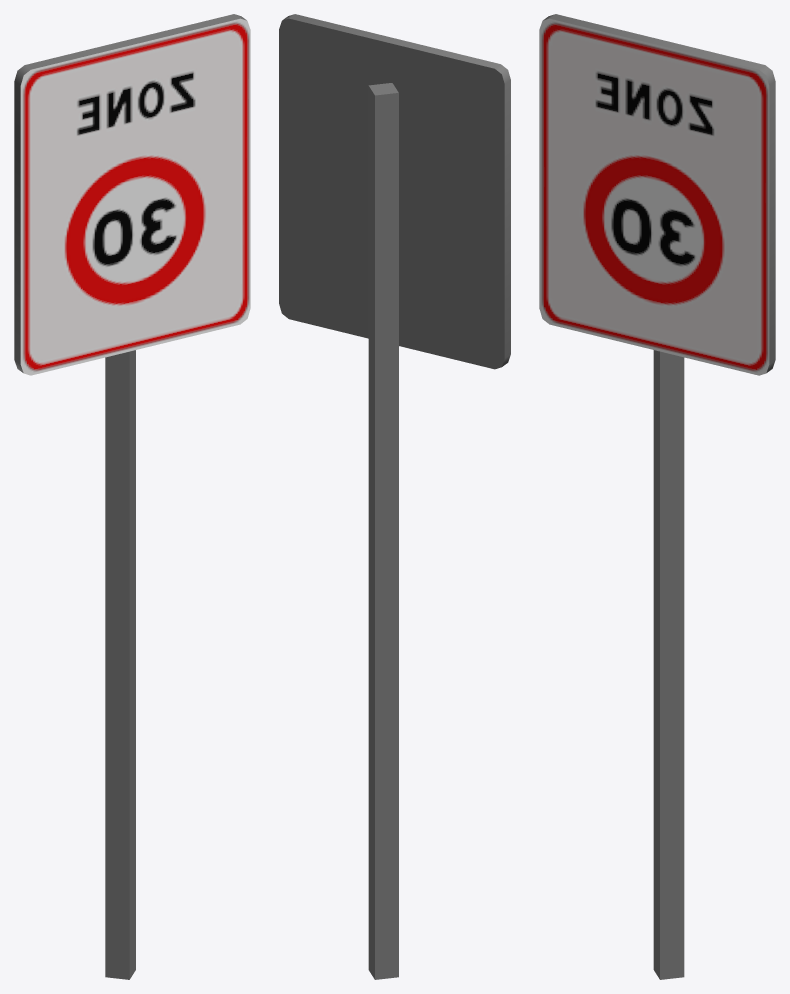
Rendered from Zone30.obj.
3 views of the same model, side by side, from view 1: azimuth 30°, elevation 25°; view 2: azimuth 150°, elevation 25°; view 3: azimuth 330°, elevation 25° (orthographic).
Visible parts, largest first — view 1: Sign_SpeedLimit_Zone_30_Sign_SpeedZone_30; view 2: Sign_SpeedLimit_Zone_30_Sign_SpeedZone_30; view 3: Sign_SpeedLimit_Zone_30_Sign_SpeedZone_30.
Boxes of the visible parts, x1=… form: Sign_SpeedLimit_Zone_30_Sign_SpeedZone_30: x1=14, y1=14, x2=250, y2=979; Sign_SpeedLimit_Zone_30_Sign_SpeedZone_30: x1=279, y1=14, x2=510, y2=979; Sign_SpeedLimit_Zone_30_Sign_SpeedZone_30: x1=539, y1=14, x2=775, y2=979.
Size of the model in its own units: 1.19 by 4.64 by 0.2117.
1 material, 1 textured.
